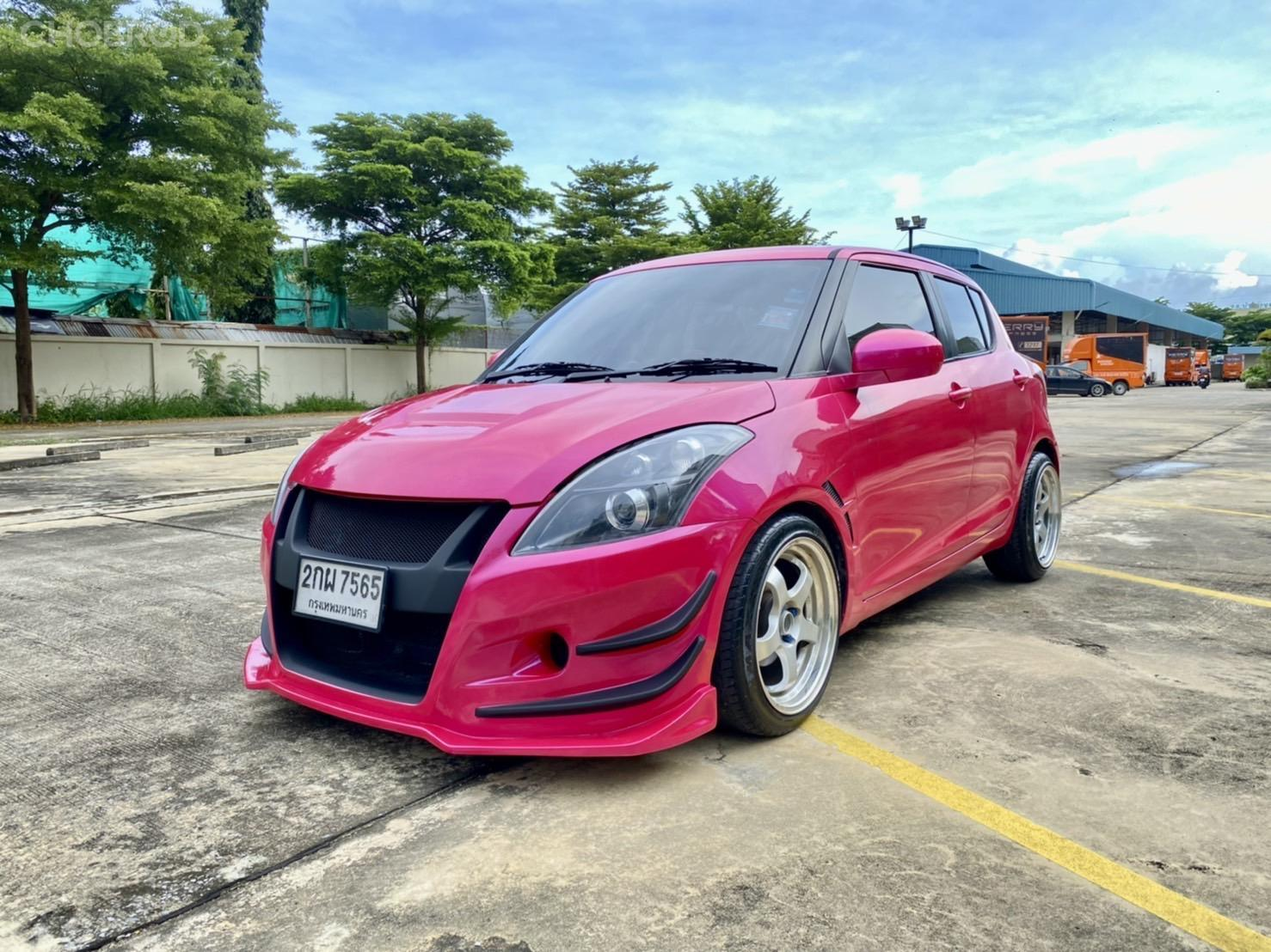license-plate: (296, 554, 392, 634)
